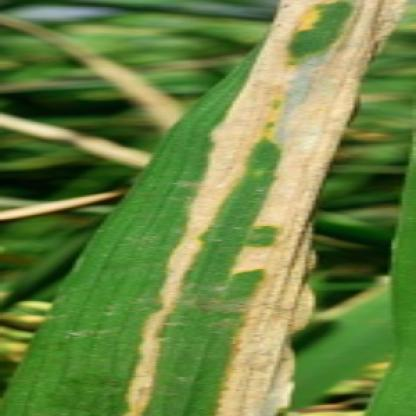Blight: (102, 1, 416, 416)
